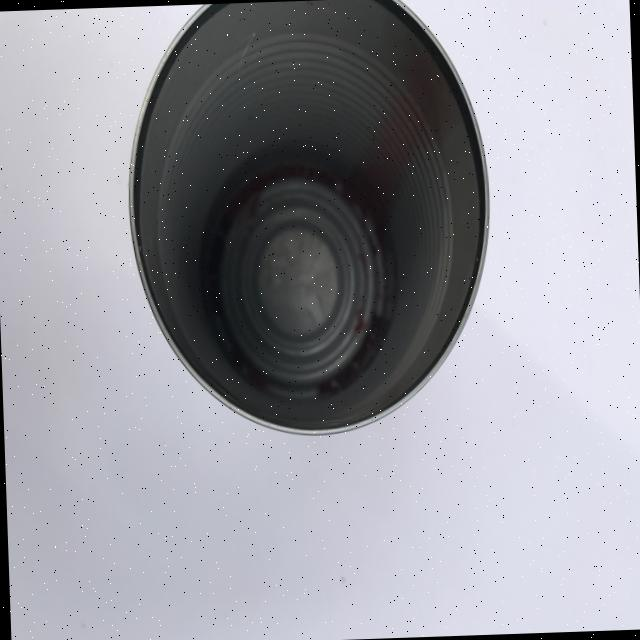metal: (120, 0, 497, 441)
